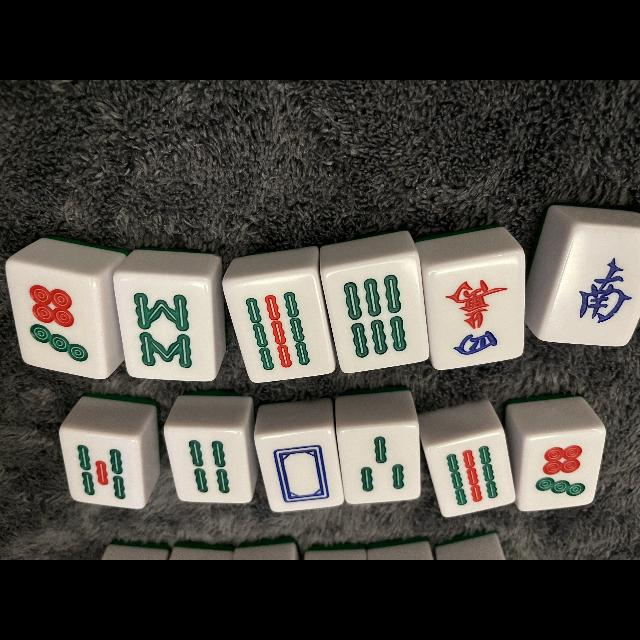b3: (342, 428, 421, 500)
b4: (172, 429, 248, 501)
b5: (65, 434, 138, 506)
b6: (331, 264, 421, 368)
b8: (122, 276, 212, 378)
b9: (238, 279, 322, 381), (436, 440, 510, 510)
c4: (428, 264, 522, 364)
d7: (9, 270, 102, 372), (524, 434, 598, 508)
dw: (264, 434, 338, 510)
ws: (556, 229, 640, 347)
